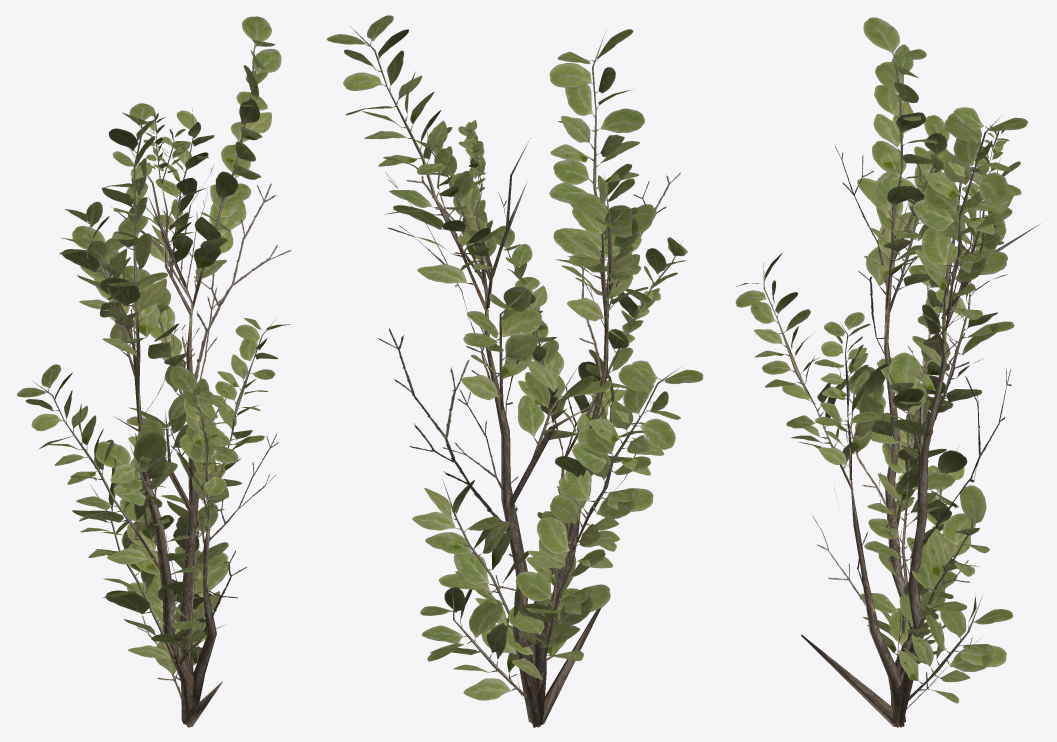
File: nama_searsia_g.glb
3 renders of one model, left to right at view 1: azimuth 30°, elevation 25°; view 2: azimuth 150°, elevation 25°; view 3: azimuth 270°, elevation 25°, orthographic. The views are drawn at different scales.
Parts seen in each view (by area): view 1: nama_searsia_g; view 2: nama_searsia_g; view 3: nama_searsia_g.
Boxes of the visible parts, left/top/right/bottom form: nama_searsia_g: left=17, top=16, right=291, bottom=727; nama_searsia_g: left=327, top=15, right=703, bottom=727; nama_searsia_g: left=735, top=17, right=1039, bottom=727.
Size of the model in its own units: 0.5344 by 1.1 by 0.4549.
Materials: 3 (3 with a texture image).
